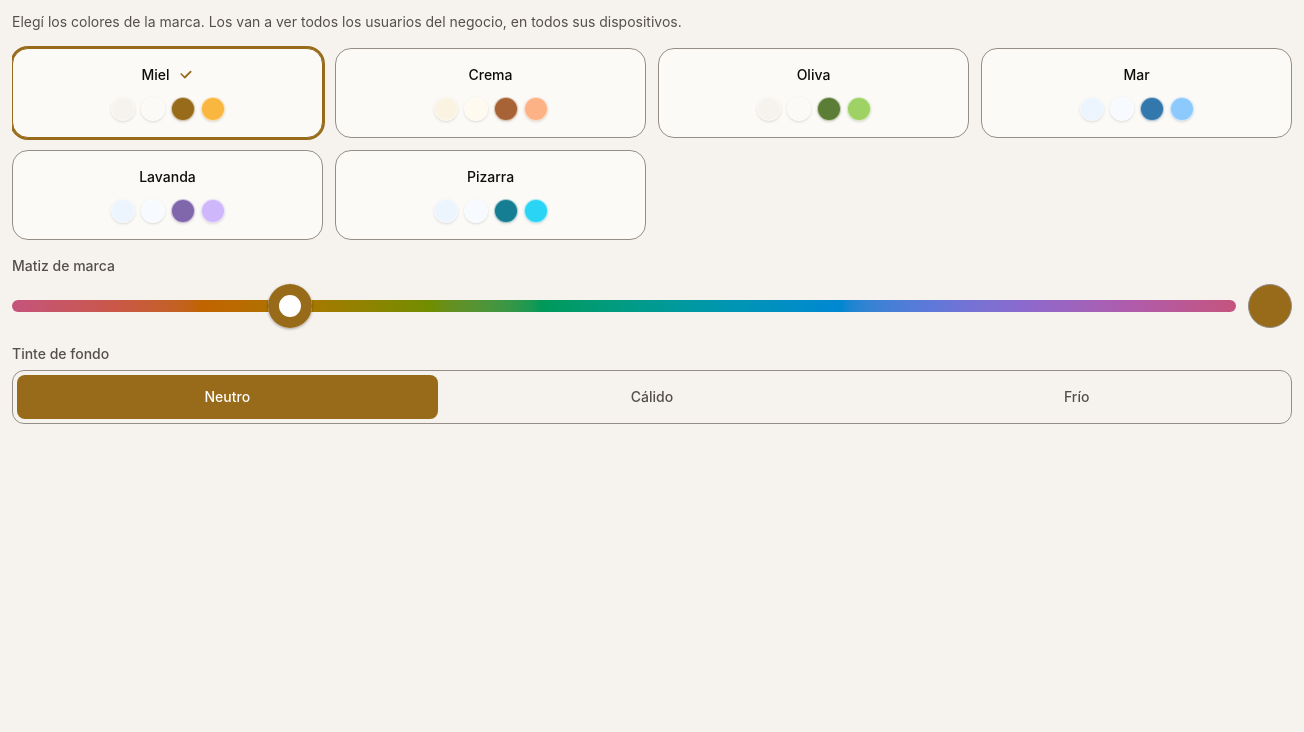
SeccionColoresNegocio › elegir un preset marca su radio (aria-checked), previsualiza en vivo (data-tema-negocio) y muestra Guardar/Descartar
Click the radio button labelled "Oliva" at (813, 74), box [658, 48, 969, 138]
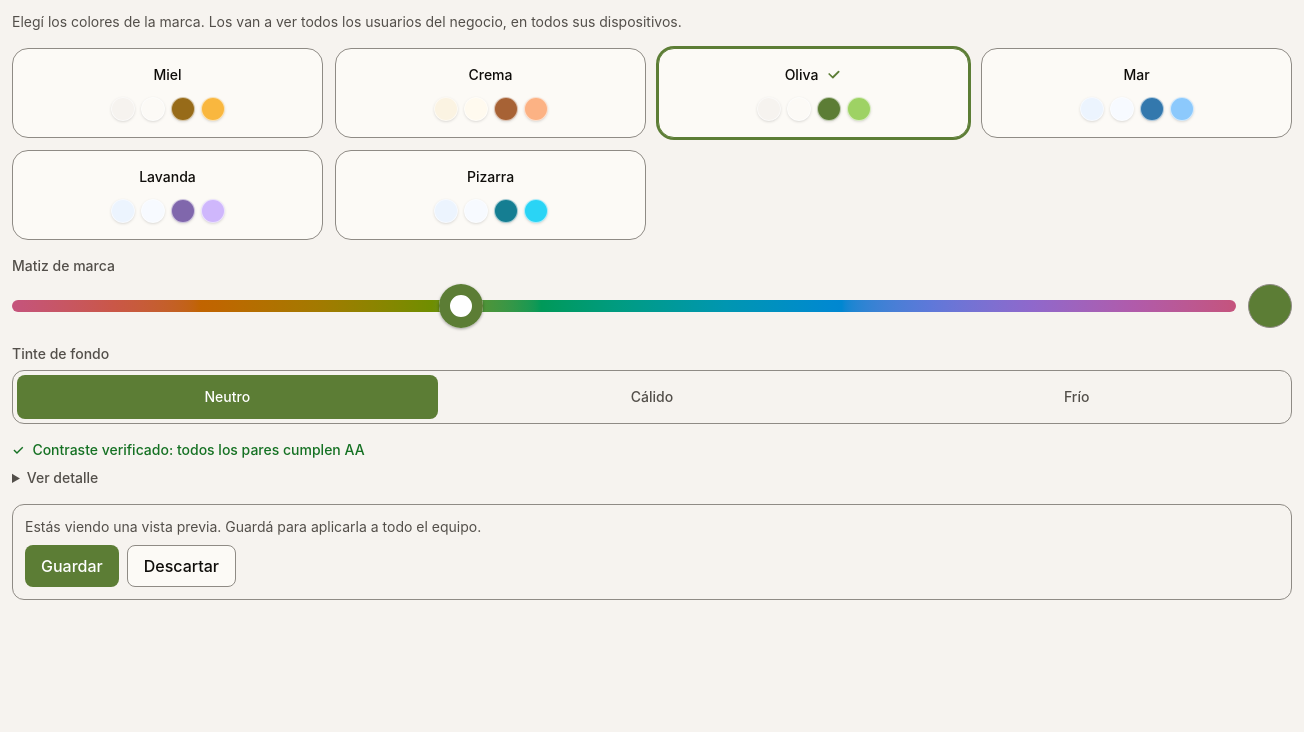
Now the button "Guardar" is shown, box [25, 545, 119, 587]
Now the button "Descartar" is shown, box [127, 545, 236, 587]
Now the text "Estás viendo una vista previa. Guardá para aplicarla a todo el equipo." is shown, box [25, 518, 481, 535]
